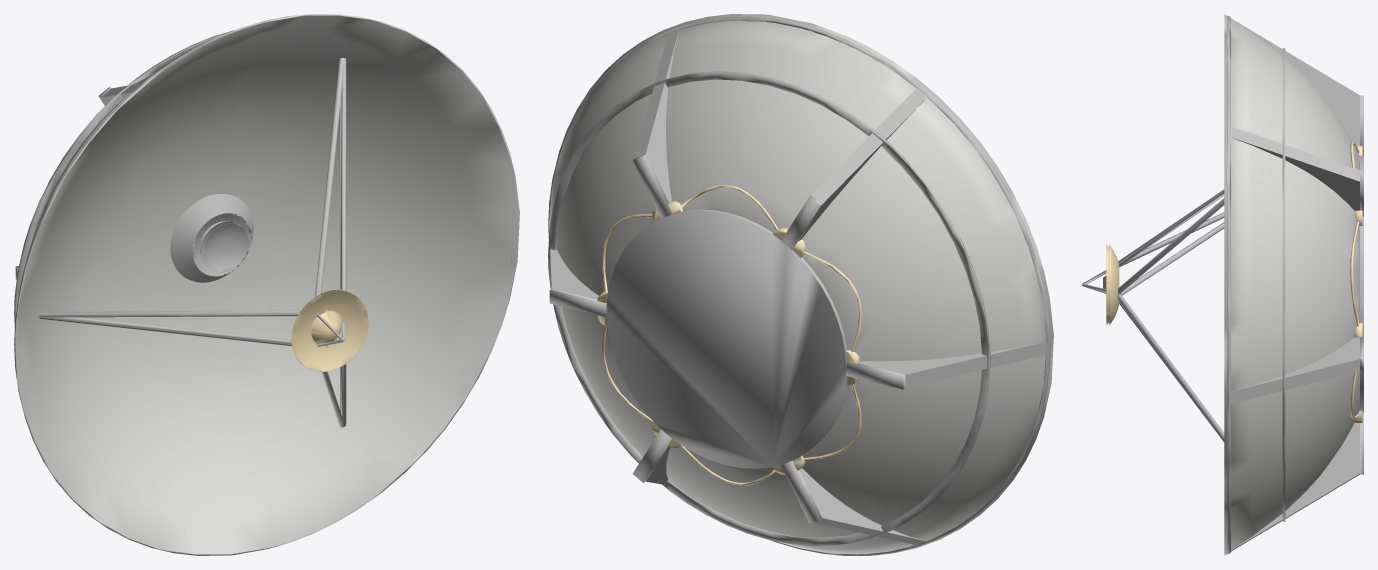
File: CassiniAntennaDecimated.fbx
3 renders of one model, left to right at view 1: azimuth 30°, elevation 25°; view 2: azimuth 150°, elevation 25°; view 3: azimuth 270°, elevation 25°, orthographic. The views are drawn at different scales.
Parts seen in each view (by area): view 1: Body8, Body10, Body21, Body26, Body20; view 2: Body8, Body20, Body27; view 3: Body8, Body20, Body10, Body27, Body26.
Boxes of the visible parts, left/top/right/bottom form: Body8: left=15, top=14, right=519, bottom=555; Body10: left=39, top=57, right=346, bottom=427; Body21: left=170, top=194, right=253, bottom=282; Body26: left=291, top=289, right=368, bottom=371; Body20: left=14, top=14, right=513, bottom=549; Body8: left=549, top=14, right=1053, bottom=555; Body20: left=548, top=17, right=1050, bottom=555; Body27: left=597, top=184, right=861, bottom=485; Body8: left=1224, top=14, right=1359, bottom=555; Body20: left=1227, top=15, right=1363, bottom=554; Body10: left=1082, top=189, right=1224, bottom=442; Body27: left=1350, top=141, right=1362, bottom=422; Body26: left=1103, top=244, right=1119, bottom=325.
Size of the model in its own units: 400 by 400 by 208.
